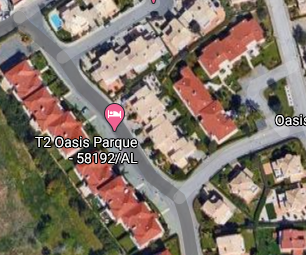pool: (49, 16, 65, 31)
